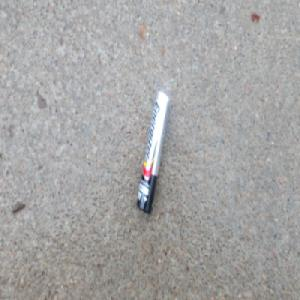Battery: (134, 88, 170, 214)
